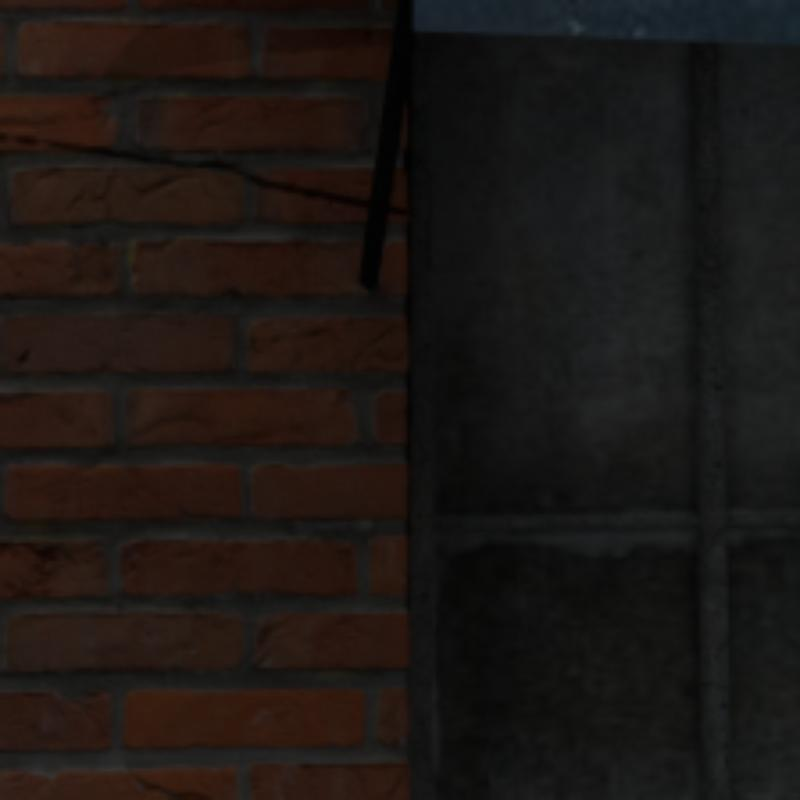pothole: (0, 136, 406, 215)
